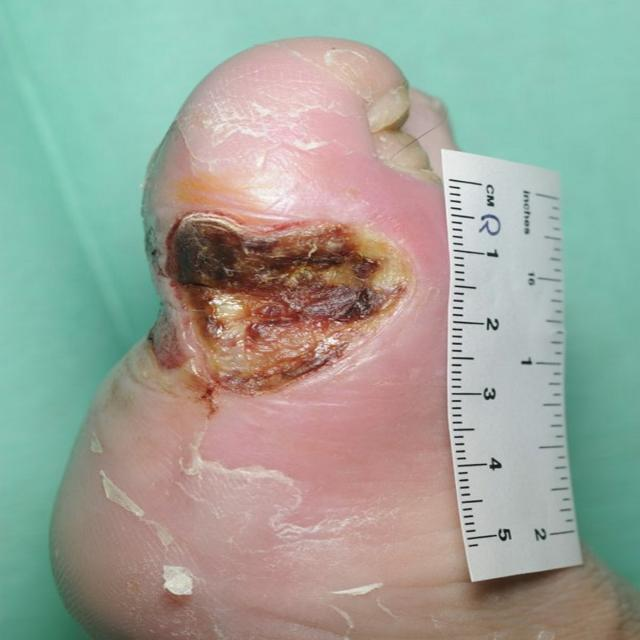wound: (147, 209, 413, 397)
